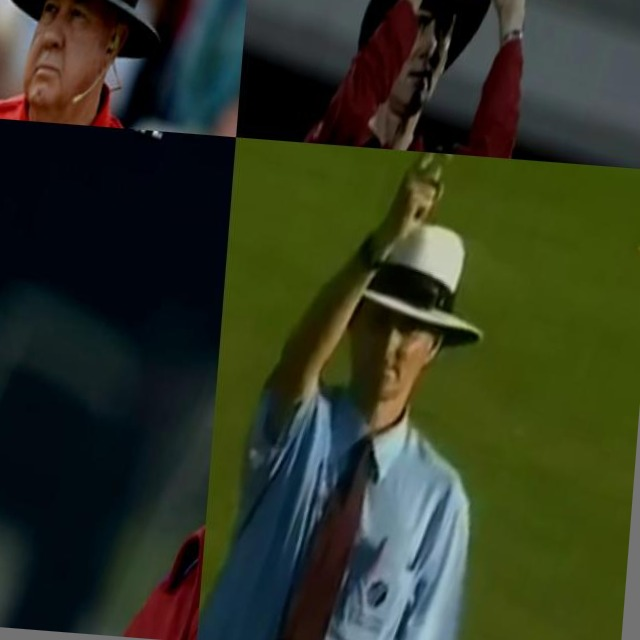No_Action: (72, 128, 236, 640)
No_Ball: (0, 0, 251, 137)
Out: (196, 137, 619, 640)
Six: (236, 0, 604, 165)
